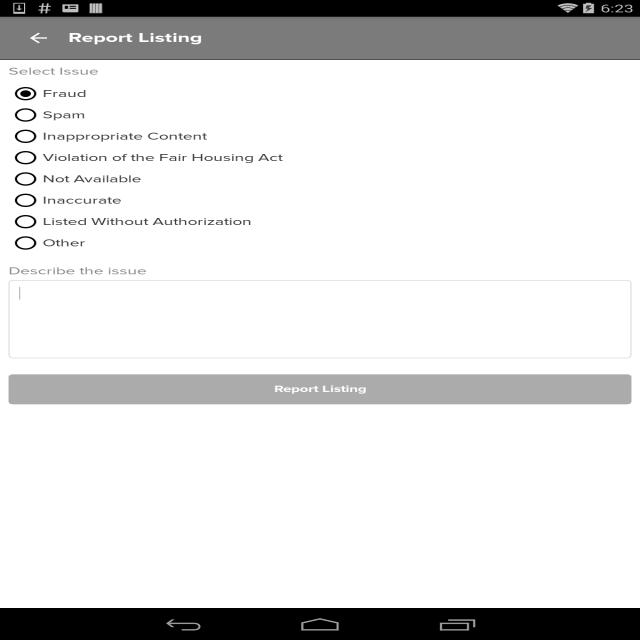Button: (9, 374, 632, 404)
EditText: (9, 280, 632, 358)
ImageButton: (9, 17, 68, 59)
RadioButton: (9, 147, 282, 168), (8, 211, 252, 232), (8, 126, 207, 147), (8, 168, 142, 190), (8, 190, 122, 211), (8, 104, 86, 126), (8, 232, 86, 254), (8, 83, 86, 104)
TextView: (68, 30, 202, 46), (8, 264, 146, 278), (8, 64, 98, 78)
